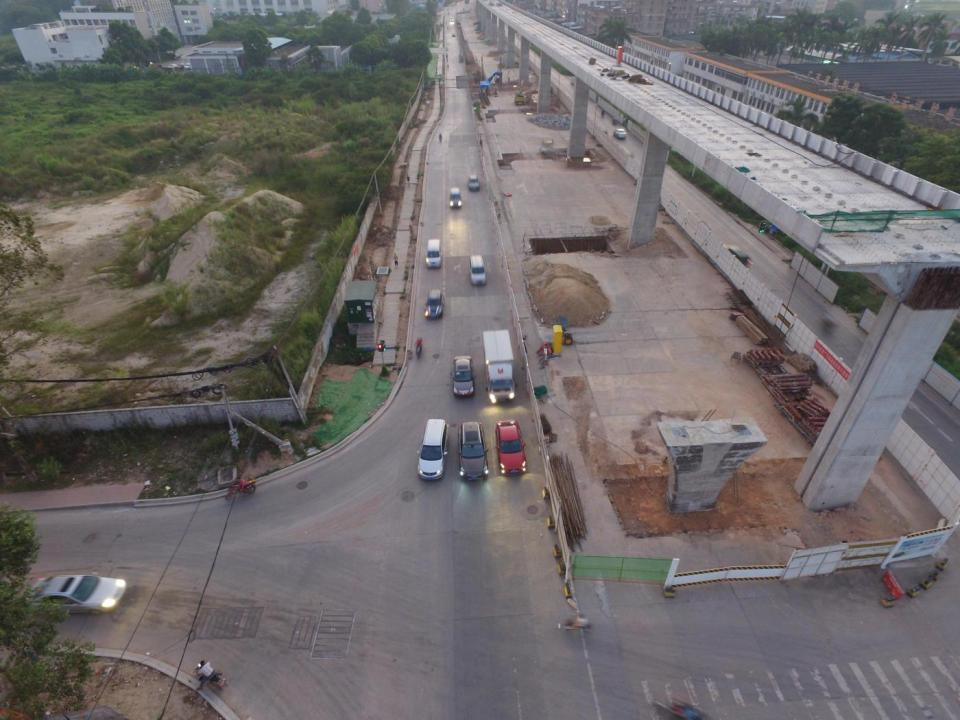car: (23, 573, 130, 615), (460, 421, 490, 483), (496, 418, 524, 475), (452, 356, 475, 396), (424, 289, 443, 320), (450, 188, 461, 208), (468, 176, 480, 190), (614, 129, 626, 139)
truck: (480, 330, 515, 403)
van: (418, 418, 449, 480), (425, 239, 441, 268), (470, 256, 486, 285), (452, 33, 455, 37)
